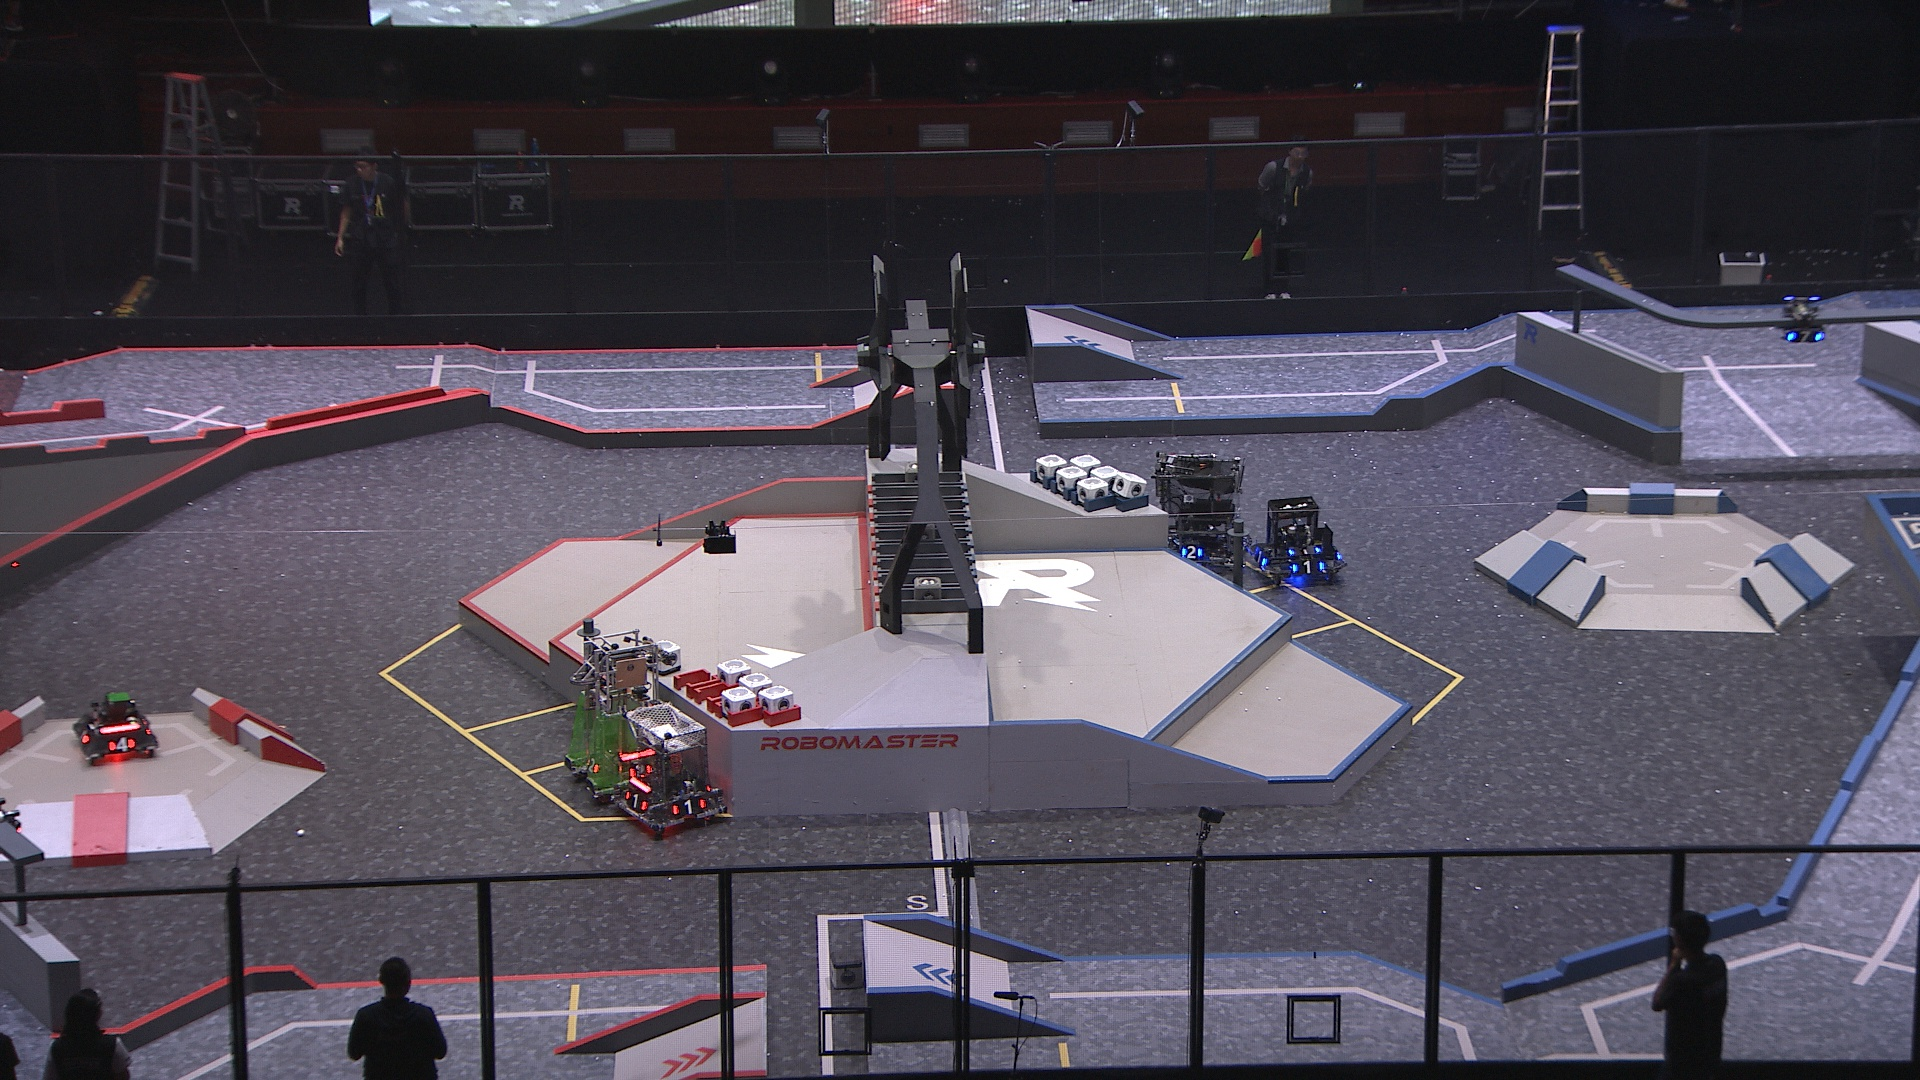armor: (670, 798, 708, 820), (1291, 556, 1325, 575), (622, 793, 650, 812), (1785, 328, 1822, 343), (109, 735, 135, 756), (1178, 545, 1204, 560), (1286, 545, 1323, 555), (1250, 549, 1269, 568), (582, 760, 603, 777), (76, 727, 94, 746)
car: (560, 629, 680, 804), (607, 704, 727, 835), (1147, 452, 1253, 567), (1240, 495, 1346, 588), (67, 688, 160, 765)
watcher: (1774, 294, 1830, 344)
